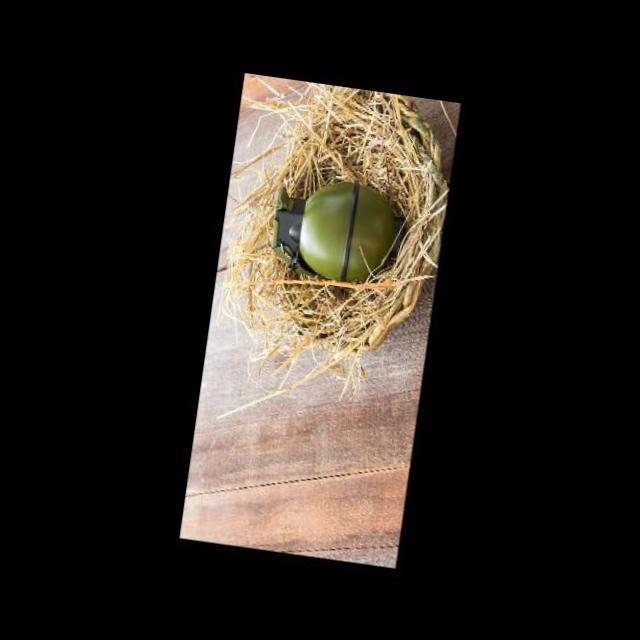grenade: (265, 162, 407, 282)
